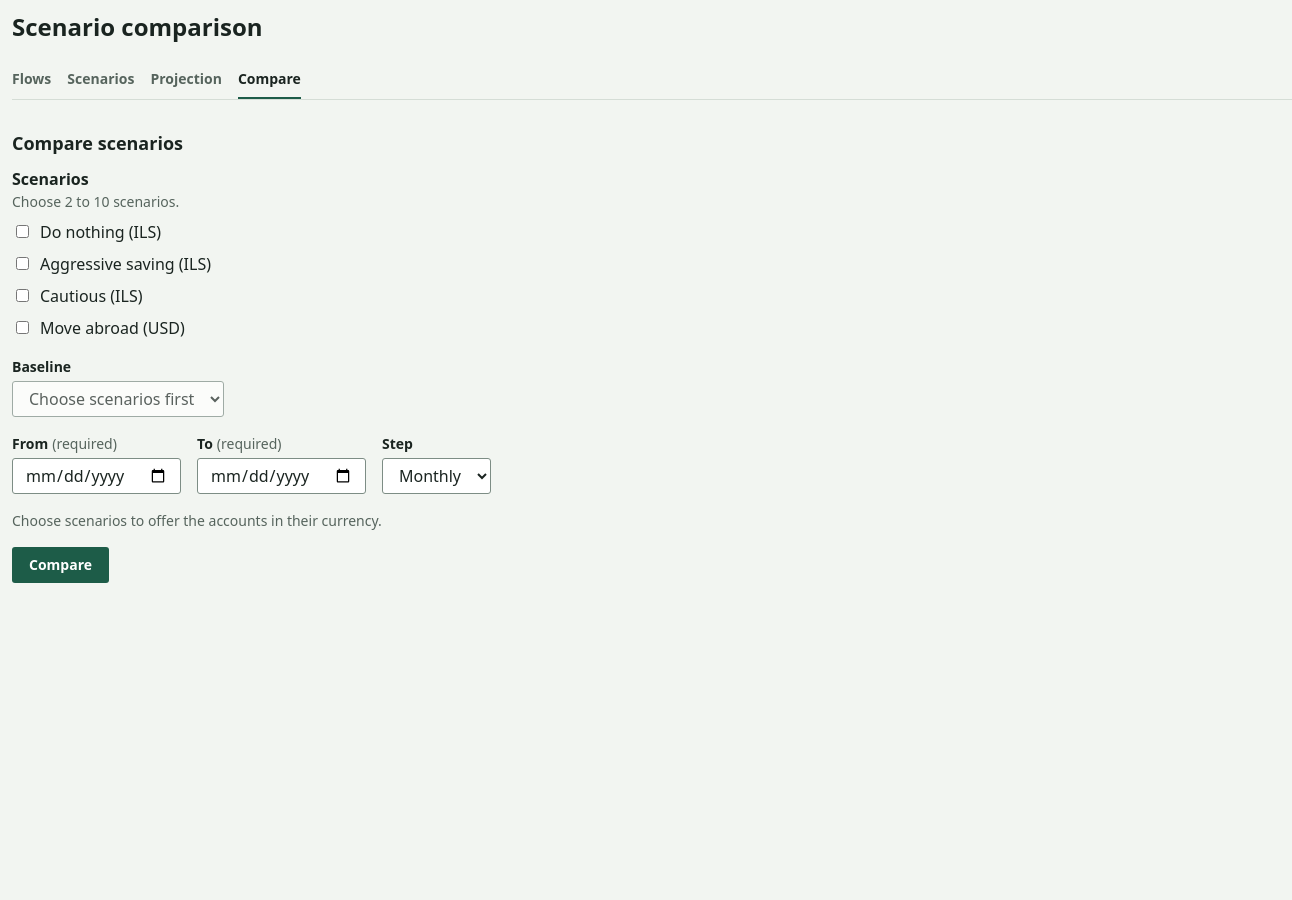
Scenario: ComparisonPage › Given_a_field_error_shown_When_a_second_scenario_is_chosen_and_compared_Then_the_error_clears_and_the_request_is_sent
Expected: the element "Scenarios" is shown, 12,168 -> 211,338
Click the checkbox labelled "Do nothing (ILS)": (22, 231) 16,224 -> 29,238
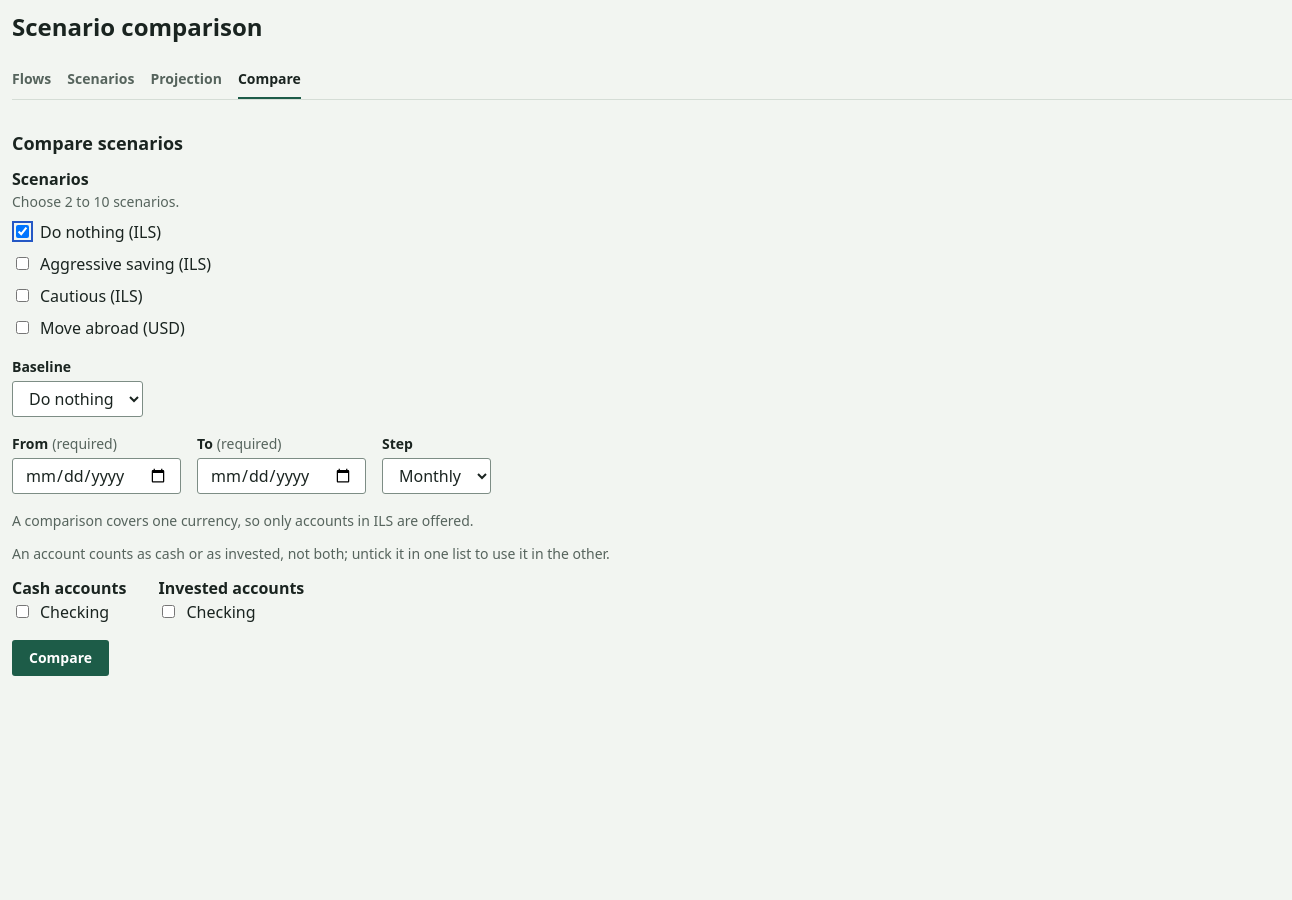
In the date field labelled "From": (96, 476) 12,458 -> 181,494, type "2026-09-01"
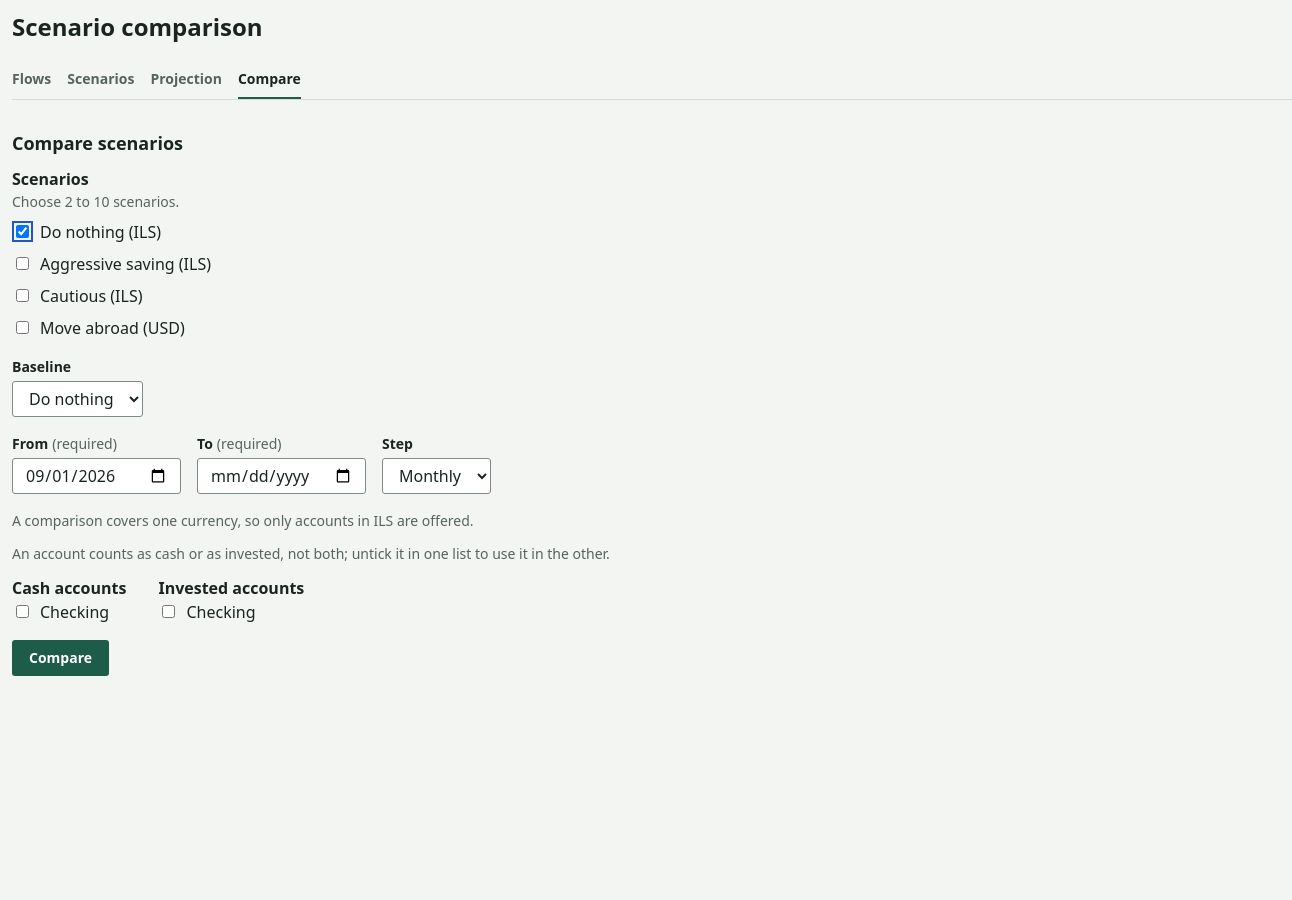
In the date field labelled "To": (282, 476) 197,458 -> 366,494, type "2026-11-01"
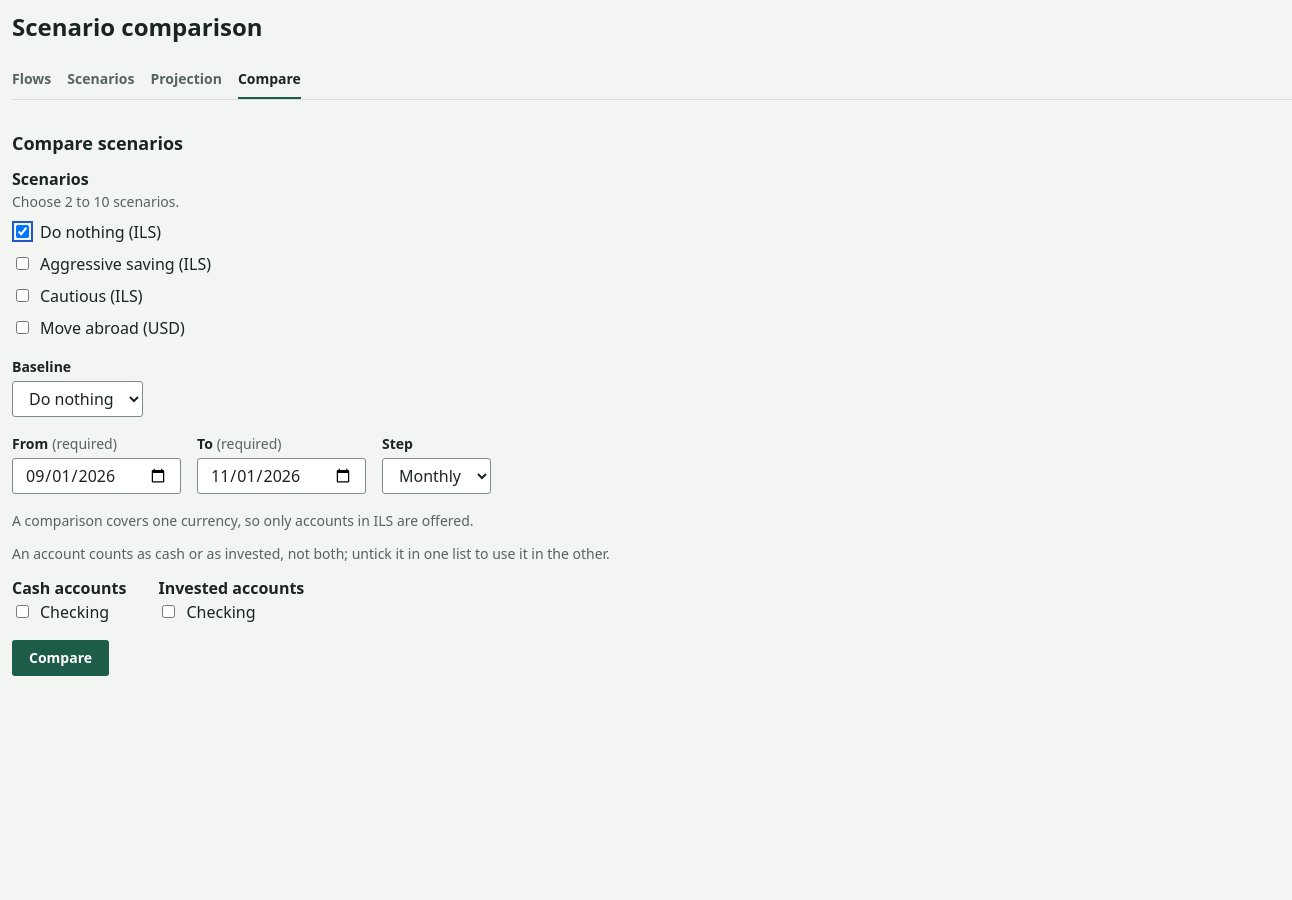
Click the button "Compare": (60, 658) 12,640 -> 109,676
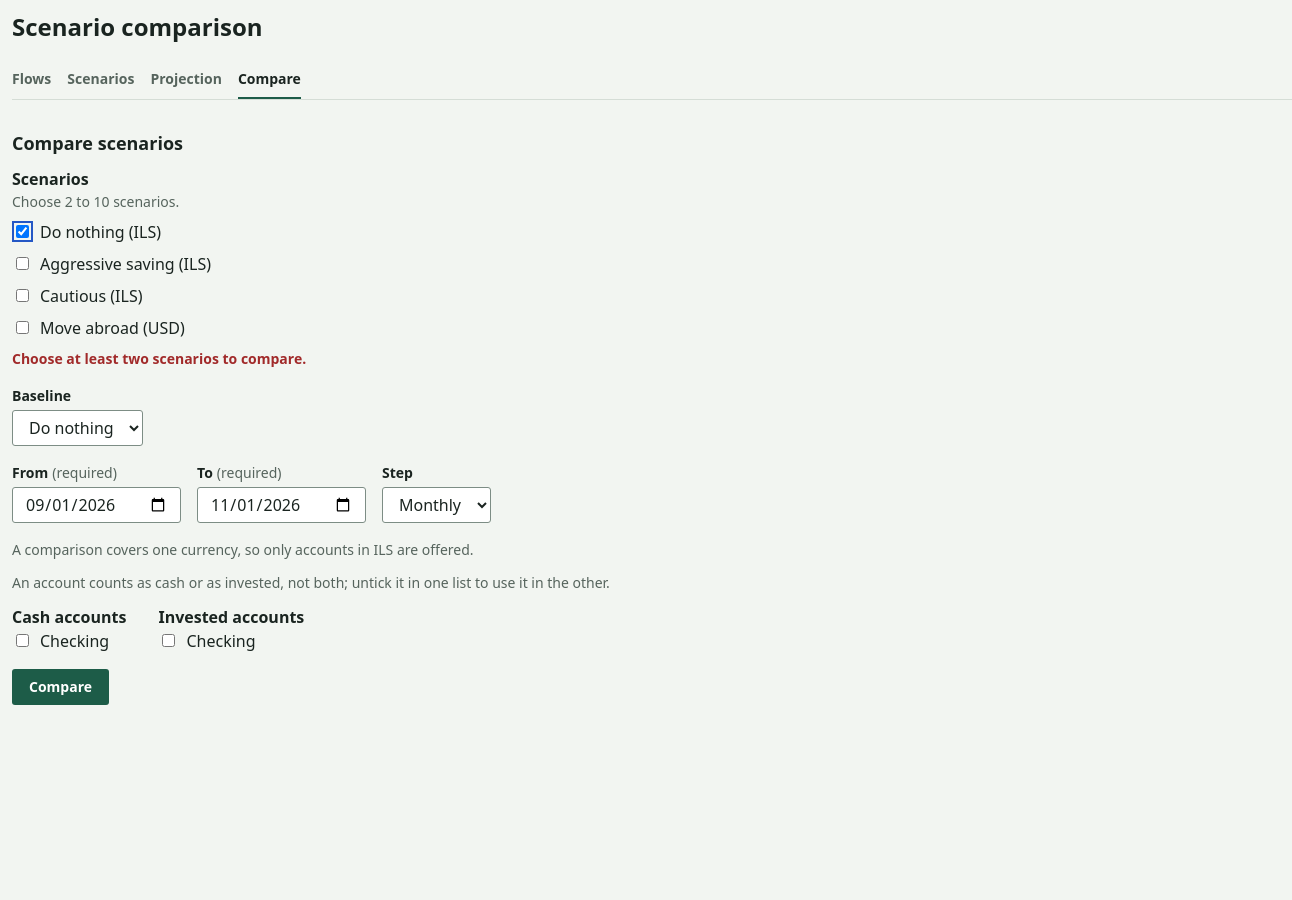
Now the text "Choose at least two scenarios to compare." is shown, box 12,348 -> 306,368
Click the checkbox labelled "Aggressive saving (ILS)": (22, 263) 16,256 -> 29,270
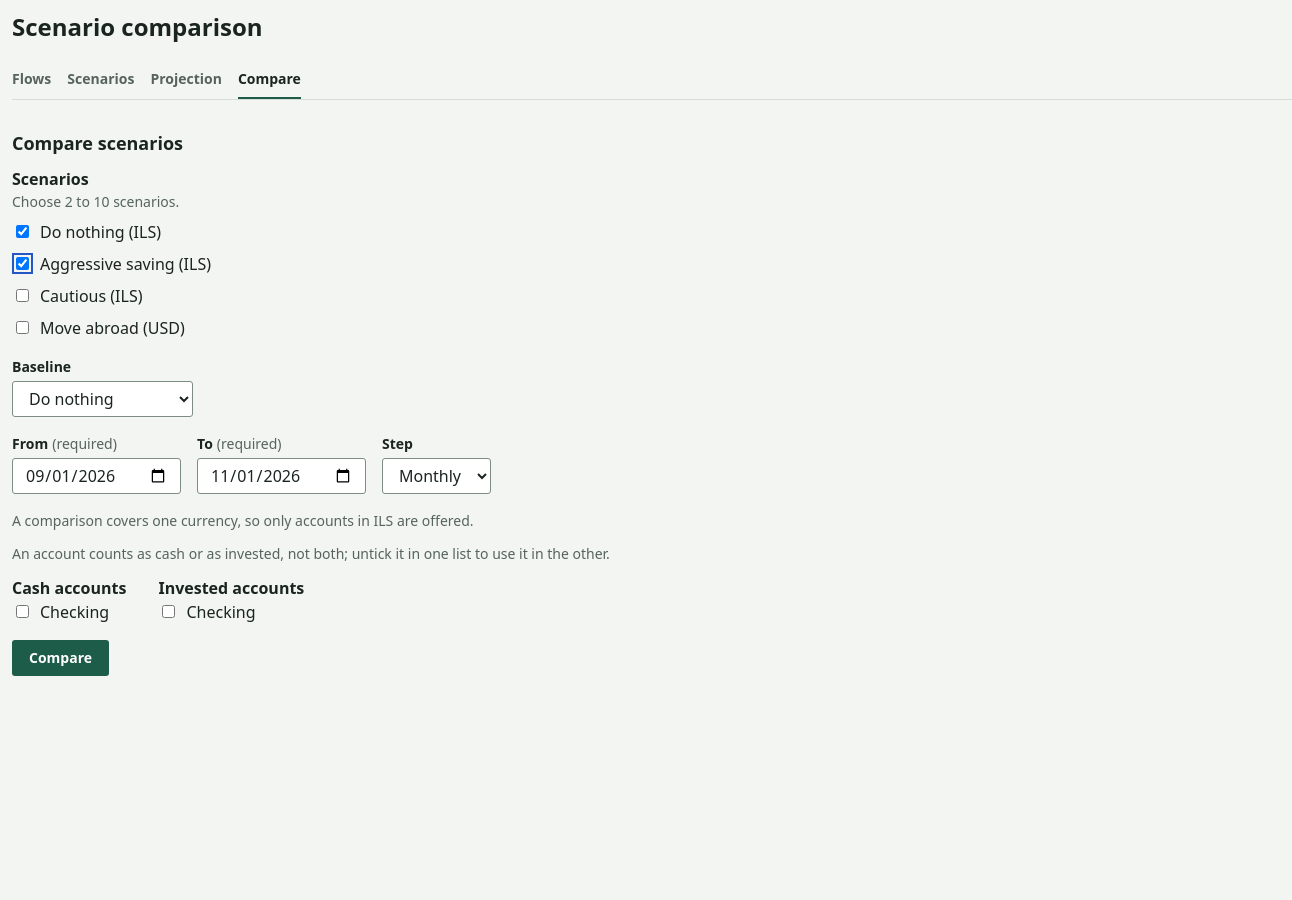
Click the button "Compare": (60, 658) 12,640 -> 109,676
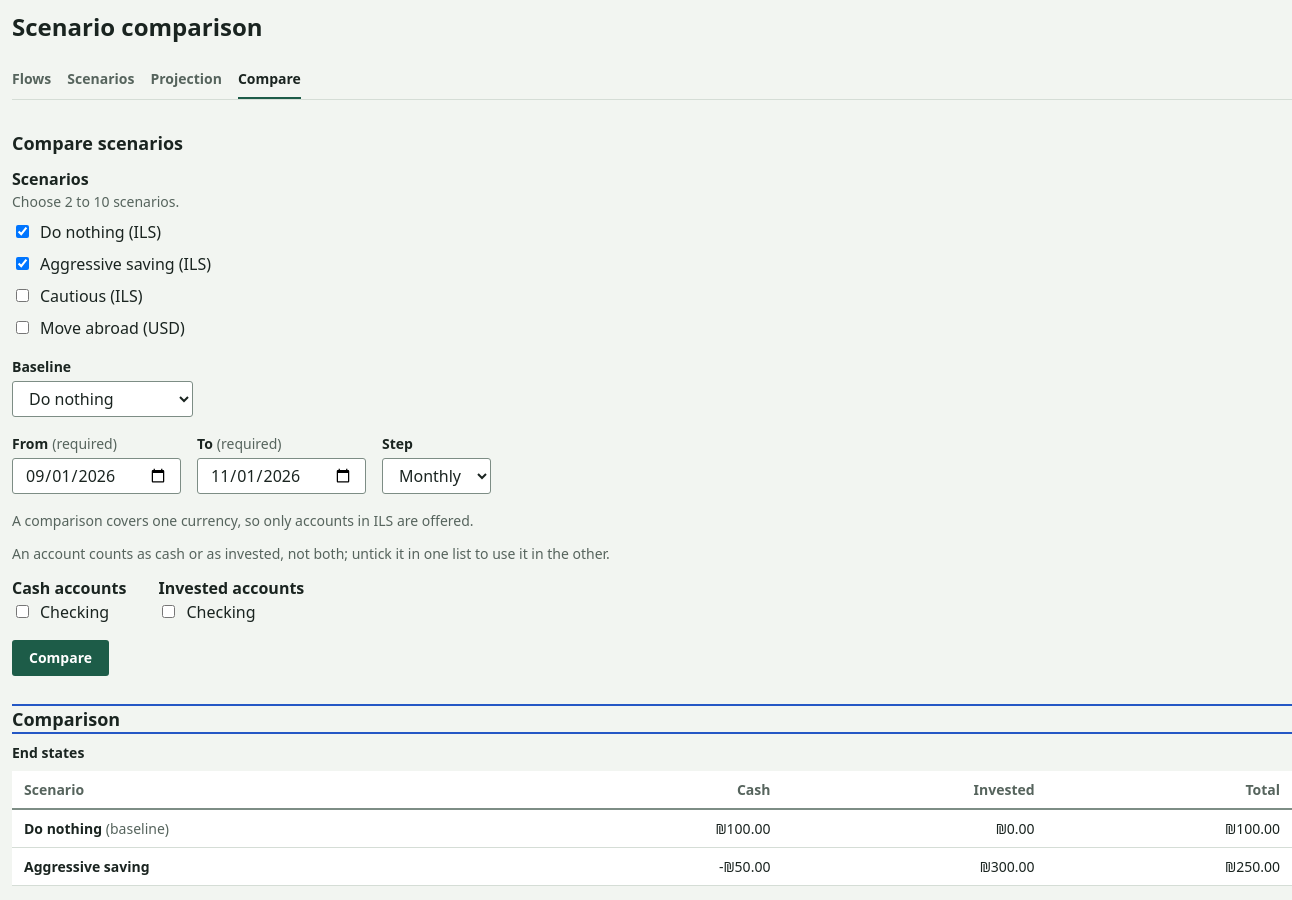
Expected: the text "Choose at least two scenarios to compare." is not shown
Now the table "End states" is shown, box 12,742 -> 1291,886
